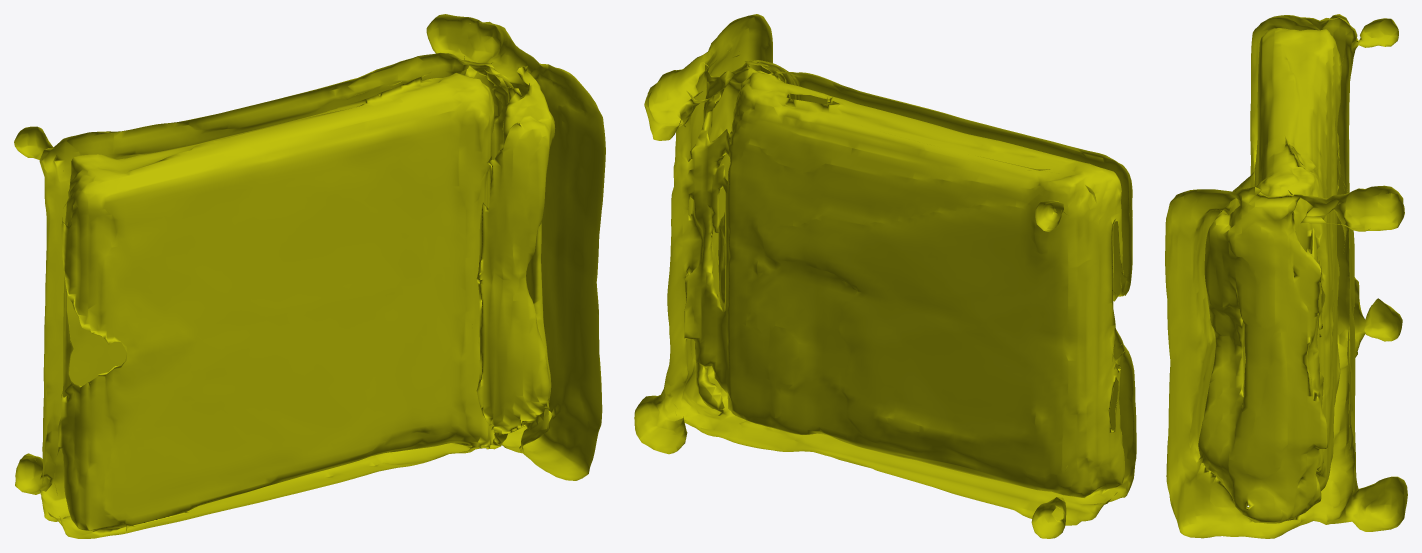
3 views of the same model, side by side, from view 1: azimuth 30°, elevation 25°; view 2: azimuth 150°, elevation 25°; view 3: azimuth 270°, elevation 25° (orthographic). The views are drawn at different scales.
Parts seen in each view (by area): view 1: world; view 2: world; view 3: world.
Boxes of the visible parts, x1,y1,x2,y2 form: world: [14, 14, 605, 538]; world: [634, 14, 1136, 538]; world: [1165, 14, 1407, 538].
Size of the model in its own units: 75.5 by 59.11 by 37.48.
